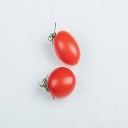tomato: (52, 28, 83, 66), (47, 68, 77, 97)
